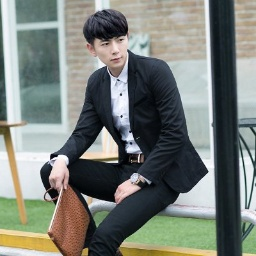face: (84, 8, 131, 69)
